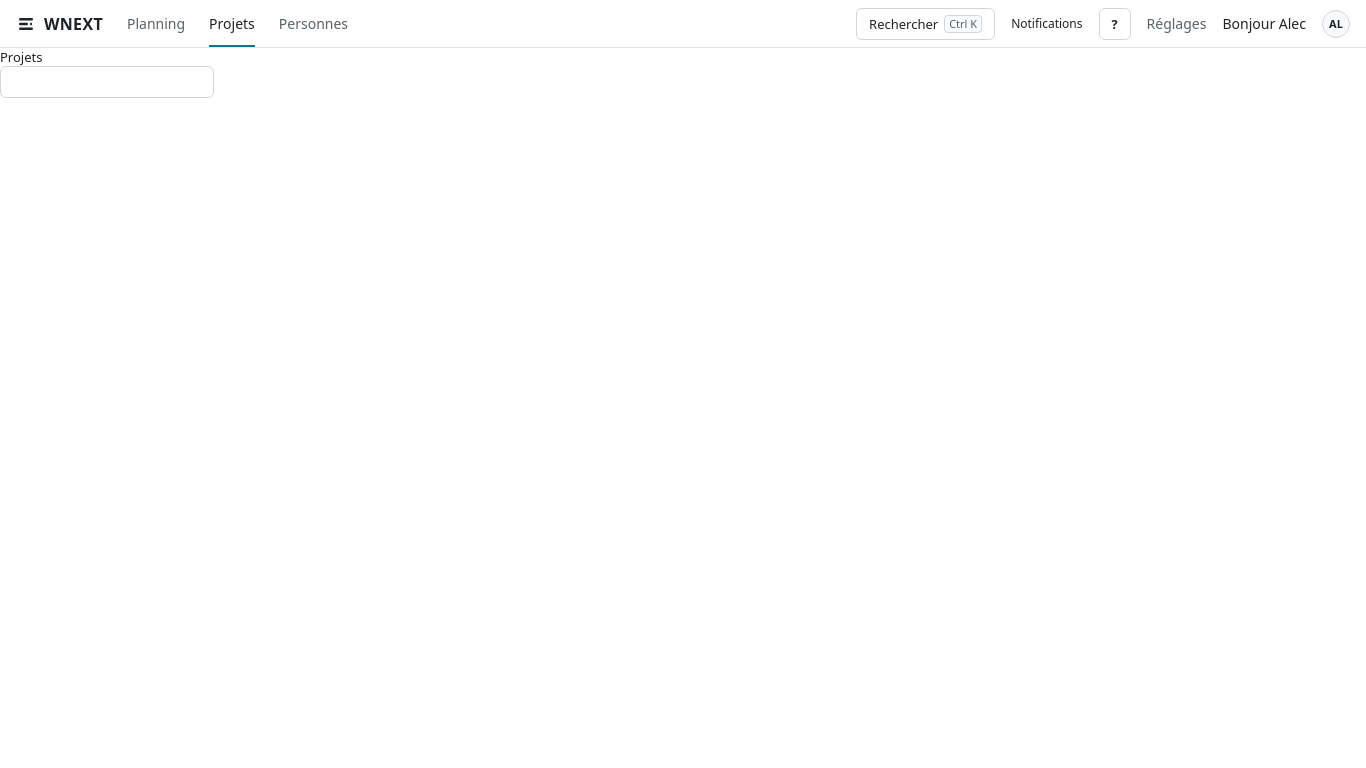
Test: bouton et fenêtre d'aide (RT-064) › la fenêtre liste chaque raccourci de la source unique, avec ses touches, par groupe
Click the button named "Raccourcis clavier": click(1114, 24) [1098,8,1130,40]
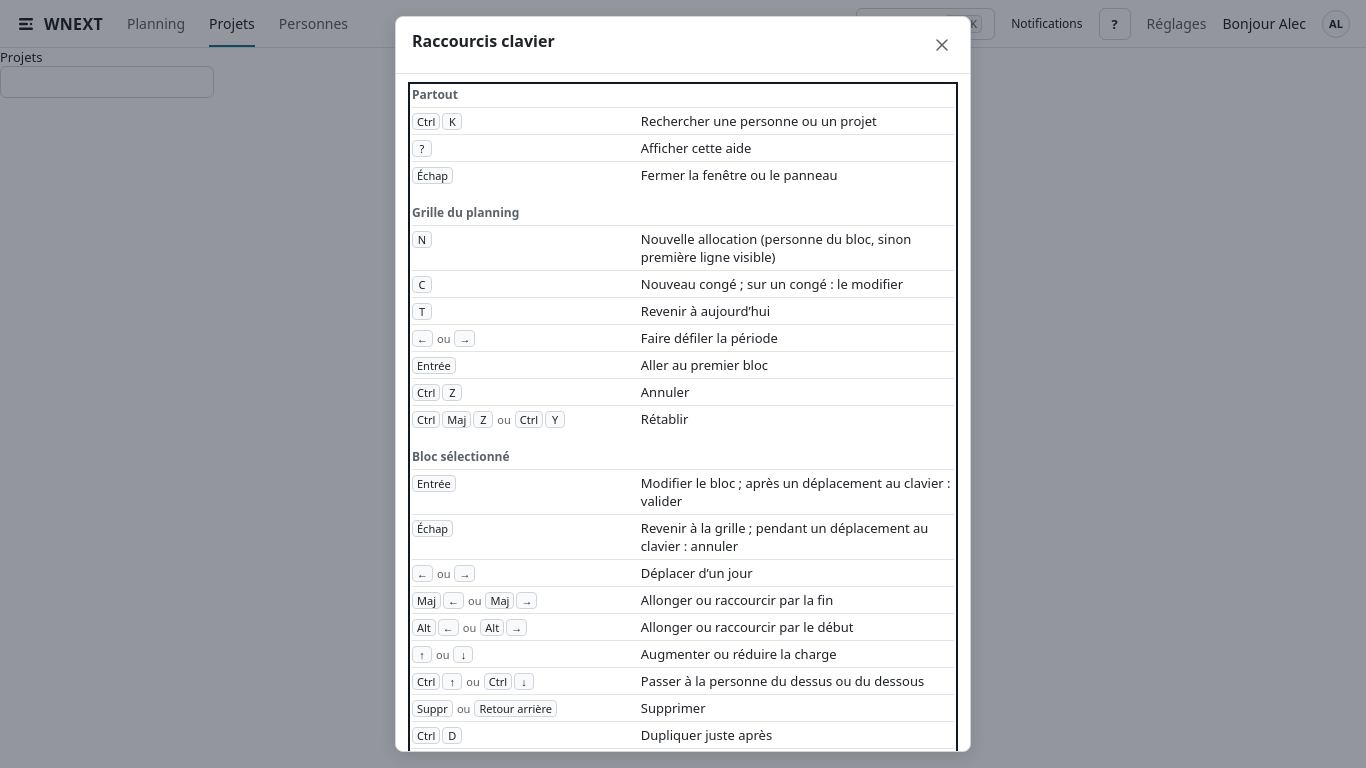
Expected: the dialog shows "Rechercher une personne ou un projet", [641,112,877,130]
Expected: the dialog shows "Afficher cette aide", [641,139,751,157]
Expected: the dialog shows "Fermer la fenêtre ou le panneau", [641,166,838,184]
